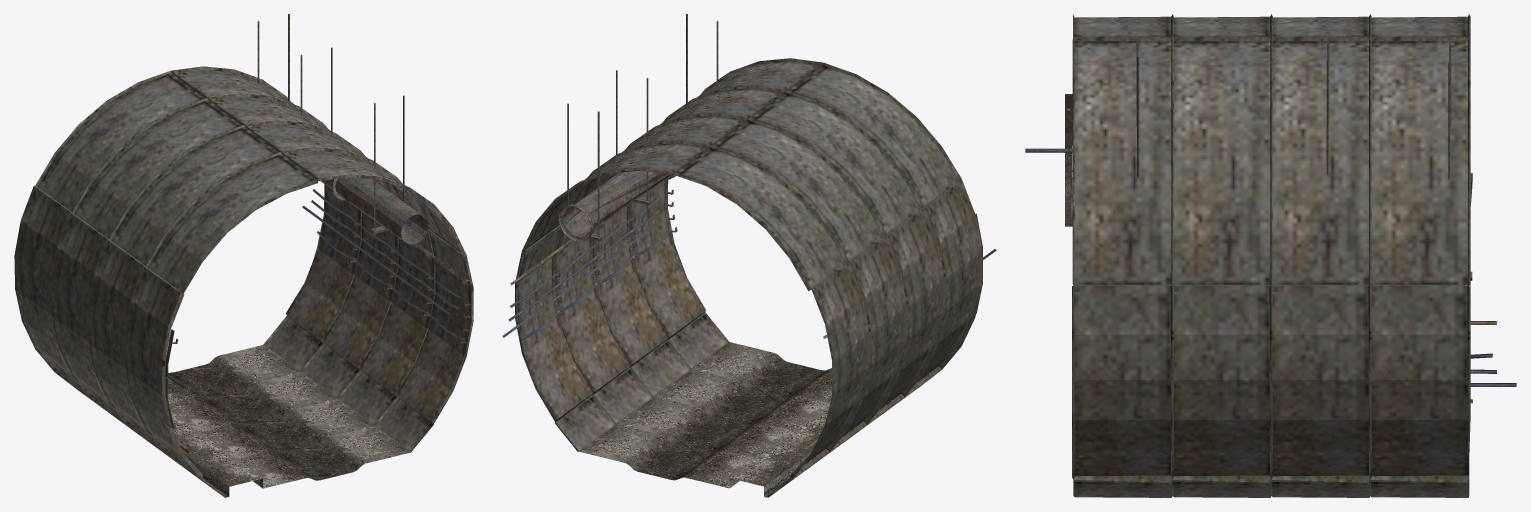
File: tunnel_beton_trub.obj
3 views of the same model, side by side, from view 1: azimuth 30°, elevation 25°; view 2: azimuth 150°, elevation 25°; view 3: azimuth 270°, elevation 25° (orthographic). The views are drawn at different scales.
Parts seen in each view (by area): view 1: concrete_tile_07, concrete_tile_008, concrete_tile_009, concrete_tile_010, floor_tunnel_pod, floor_tunnel_pod001, floor_tunnel_pod002, floor_tunnel_pod003, metal_truba8, metal_corr_dsc, metal_trub_tonnel, metal_budk (+3 smaller); view 2: concrete_tile_009, concrete_tile_07, concrete_tile_010, concrete_tile_008, floor_tunnel_pod003, floor_tunnel_pod002, floor_tunnel_pod001, floor_tunnel_pod, metal_truba8, metal_trub_tonnel003, metal_budk, metal_balka (+3 smaller); view 3: concrete_tile_07, concrete_tile_009, concrete_tile_010, concrete_tile_008, metal_corr_dsc, metal_budk, metal_trub_tonnel003.
Boxes of the visible parts, box(x1,y1,x2,y2) form: concrete_tile_07: box(125, 147, 473, 497); concrete_tile_008: box(88, 120, 435, 468); concrete_tile_009: box(14, 66, 361, 415); concrete_tile_010: box(51, 93, 398, 442); floor_tunnel_pod: box(193, 425, 409, 497); floor_tunnel_pod001: box(171, 399, 372, 459); floor_tunnel_pod002: box(167, 372, 336, 431); floor_tunnel_pod003: box(165, 345, 299, 403); metal_truba8: box(321, 177, 428, 244); metal_corr_dsc: box(165, 259, 471, 429); metal_trub_tonnel: box(168, 179, 464, 453); metal_budk: box(300, 47, 404, 237); concrete_tile_009: box(515, 140, 869, 497); concrete_tile_07: box(630, 58, 982, 414); concrete_tile_010: box(555, 113, 906, 469); concrete_tile_008: box(593, 85, 944, 441); floor_tunnel_pod003: box(579, 424, 801, 497); floor_tunnel_pod002: box(617, 397, 823, 458); floor_tunnel_pod001: box(655, 369, 829, 430); floor_tunnel_pod: box(692, 342, 831, 402); metal_truba8: box(563, 170, 671, 236); metal_trub_tonnel003: box(502, 173, 831, 454); metal_budk: box(616, 14, 718, 210); metal_balka: box(567, 103, 652, 252); concrete_tile_07: box(1072, 14, 1173, 497); concrete_tile_009: box(1369, 14, 1470, 497); concrete_tile_010: box(1270, 14, 1371, 497); concrete_tile_008: box(1171, 14, 1272, 497); metal_corr_dsc: box(1065, 94, 1080, 292); metal_budk: box(1136, 37, 1329, 177); metal_trub_tonnel003: box(1470, 271, 1516, 403).
Size of the model in its own units: 8.92 by 9.29 by 9.04.
8 materials, 8 textured.
